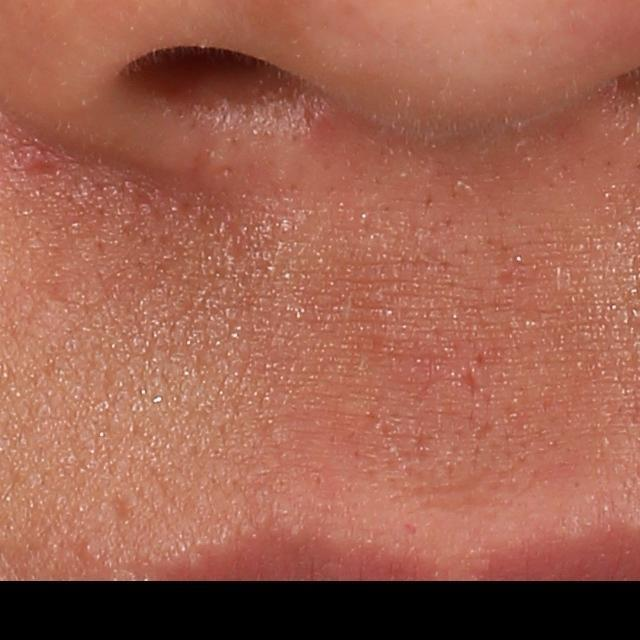comedo: (79, 540, 96, 560)
